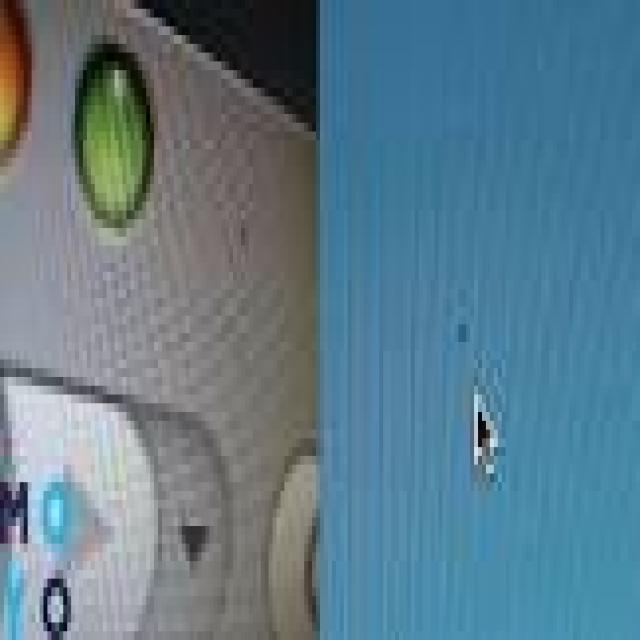dead_pixel: (446, 299, 475, 361)
